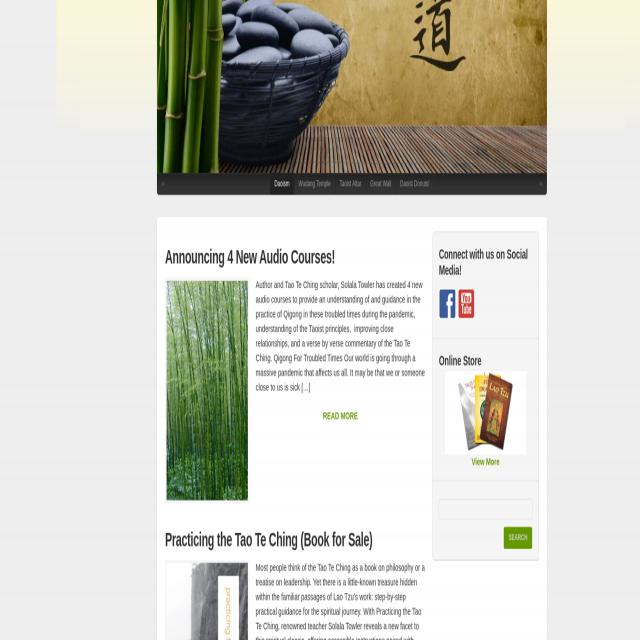button: (165, 278, 249, 502), (445, 371, 526, 454), (165, 560, 248, 640), (294, 173, 335, 195), (321, 405, 362, 426), (396, 173, 434, 195), (335, 173, 366, 195), (366, 173, 396, 195), (504, 527, 532, 549), (457, 289, 475, 319), (270, 173, 294, 195), (439, 289, 456, 319), (157, 173, 169, 195)
field: (439, 499, 533, 519)
